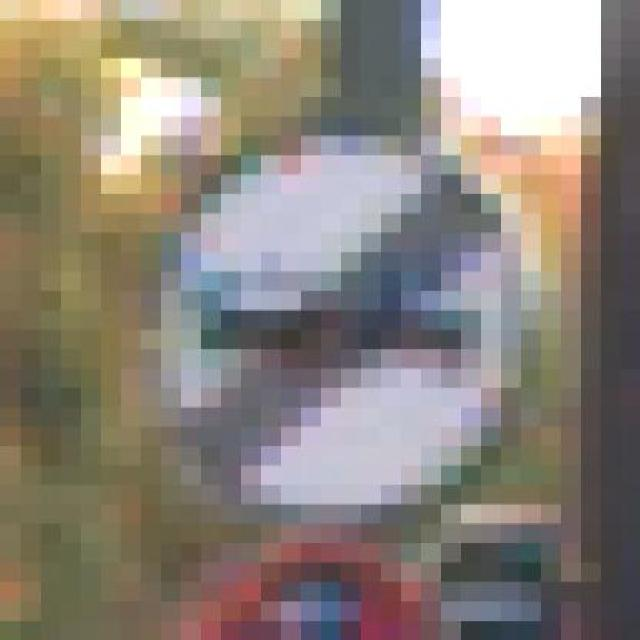No_Over_Taking: (60, 58, 560, 524)
